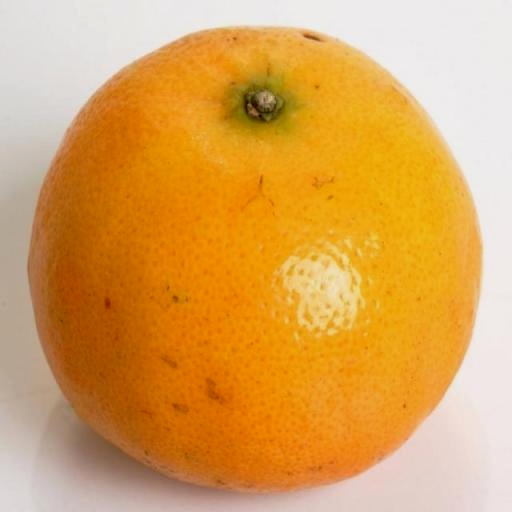fruit: (28, 28, 479, 491)
